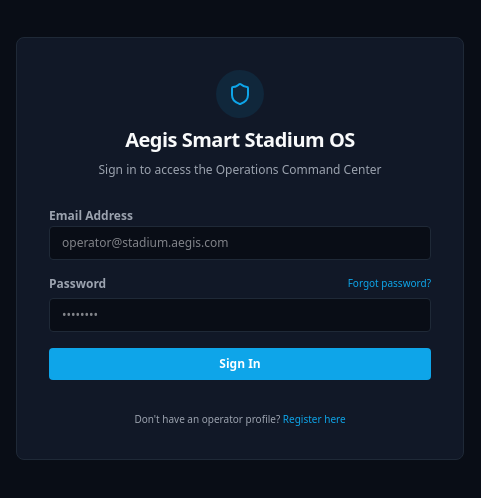
Scenario: Login Screen View › should render validation errors on empty inputs submit
The width and height of the screenshot is (481, 498).
Click the button "Sign In" at (240, 364), box [49,348,431,380]
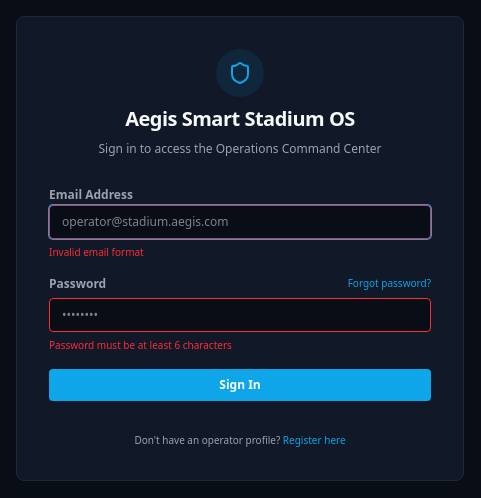
Now the text "Invalid email format" is shown, box [49,244,144,258]
Now the text "Password must be at least 6 characters" is shown, box [49,338,232,352]
